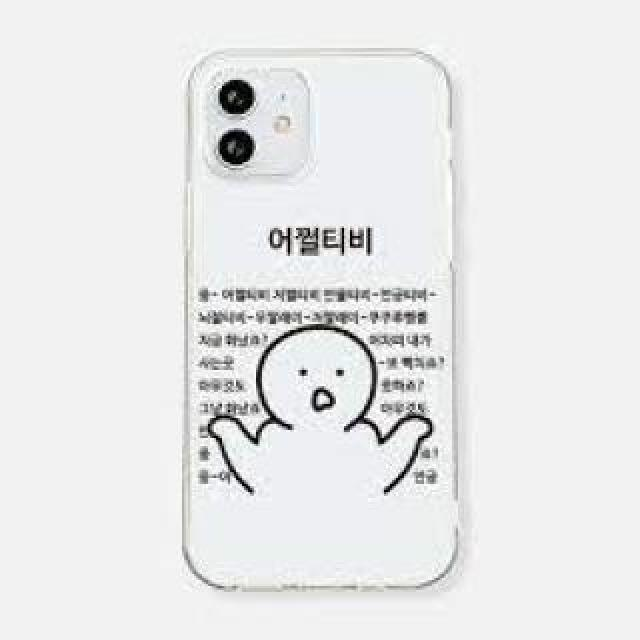smart phone: (165, 31, 475, 602)
